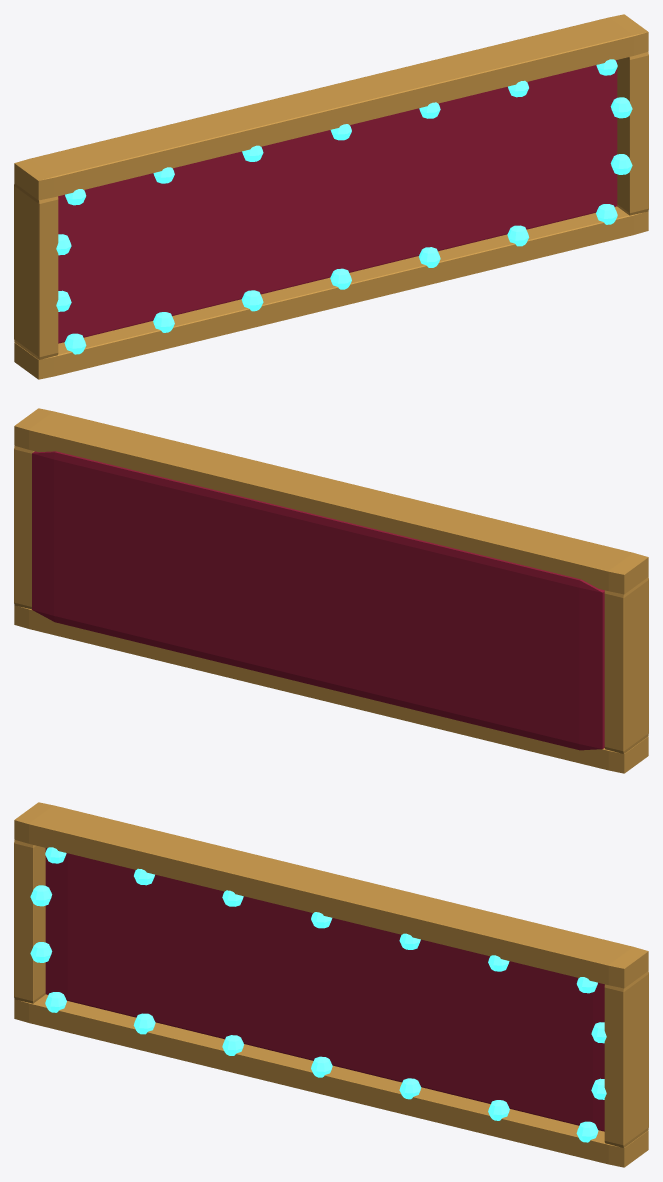
File: marquee.glb
3 views of the same model, one above another, from view 1: azimuth 30°, elevation 25°; view 2: azimuth 150°, elevation 25°; view 3: azimuth 330°, elevation 25° (orthographic).
Parts seen in each view (by area): view 1: marquee_back, marquee_top, marquee_bottom, marquee_left, marquee_right; view 2: marquee_back, marquee_top, marquee_bottom, marquee_left, marquee_right; view 3: marquee_back, marquee_top, marquee_bottom, marquee_right, marquee_left.
Part boxes in pixels (x1,y1,x2,y2): marquee_back: (58,60,617,343); marquee_top: (14,14,648,200); marquee_bottom: (14,206,648,379); marquee_left: (14,183,58,359); marquee_right: (617,52,648,215); marquee_back: (32,451,604,750); marquee_top: (14,408,648,594); marquee_bottom: (14,605,648,773); marquee_left: (604,577,648,753); marquee_right: (14,446,34,609); marquee_back: (45,848,604,1131); marquee_top: (14,802,648,988); marquee_bottom: (14,994,648,1167); marquee_right: (604,971,648,1147); marquee_left: (14,840,45,1003).
Size of the model in its own units: 6.2 by 1.94 by 0.53.
